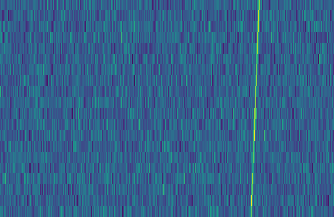signal: (247, 0, 265, 217)
